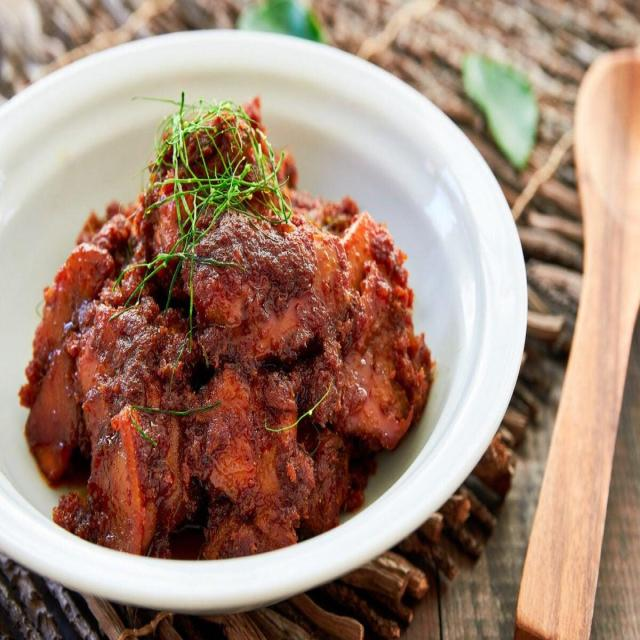Rendang: (11, 92, 448, 572)
